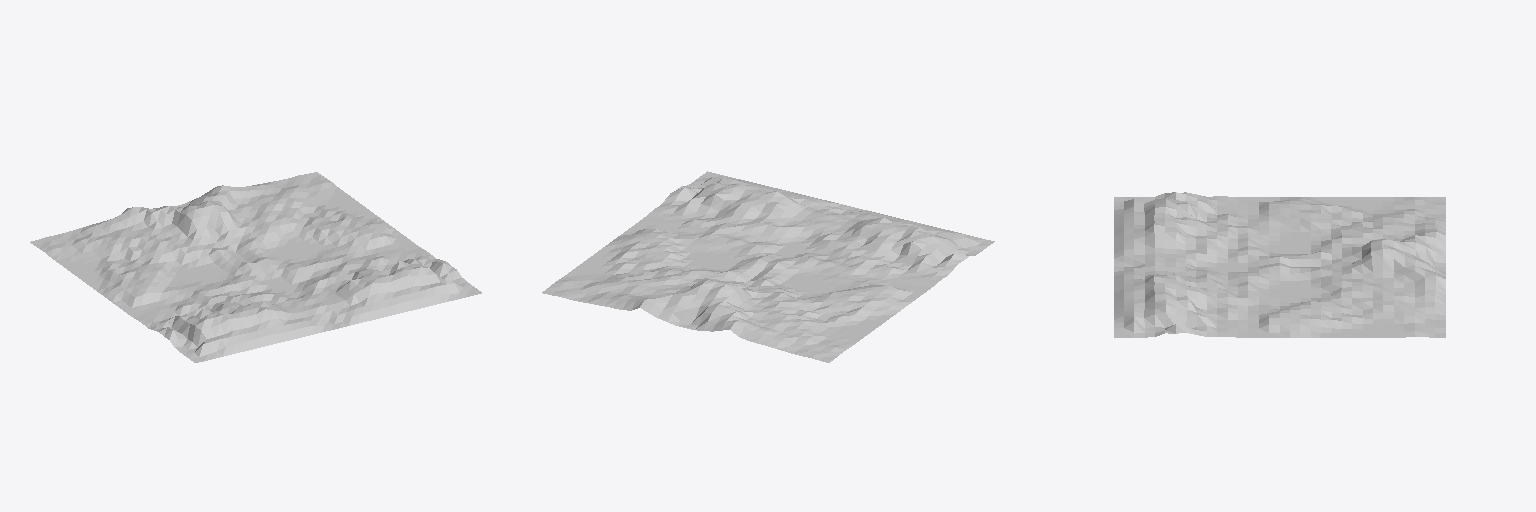
File: ground.obj
The picture shows the model from 3 angles: view 1: azimuth 30°, elevation 25°; view 2: azimuth 150°, elevation 25°; view 3: azimuth 270°, elevation 25°; orthographic projection.
Visible parts, largest first — view 1: Cube; view 2: Cube; view 3: Cube.
Boxes of the visible parts, x1=… form: Cube: x1=30, y1=172, x2=481, y2=362; Cube: x1=542, y1=171, x2=994, y2=362; Cube: x1=1114, y1=192, x2=1445, y2=337.
Size of the model in its own units: 15.14 by 1.15 by 15.15.